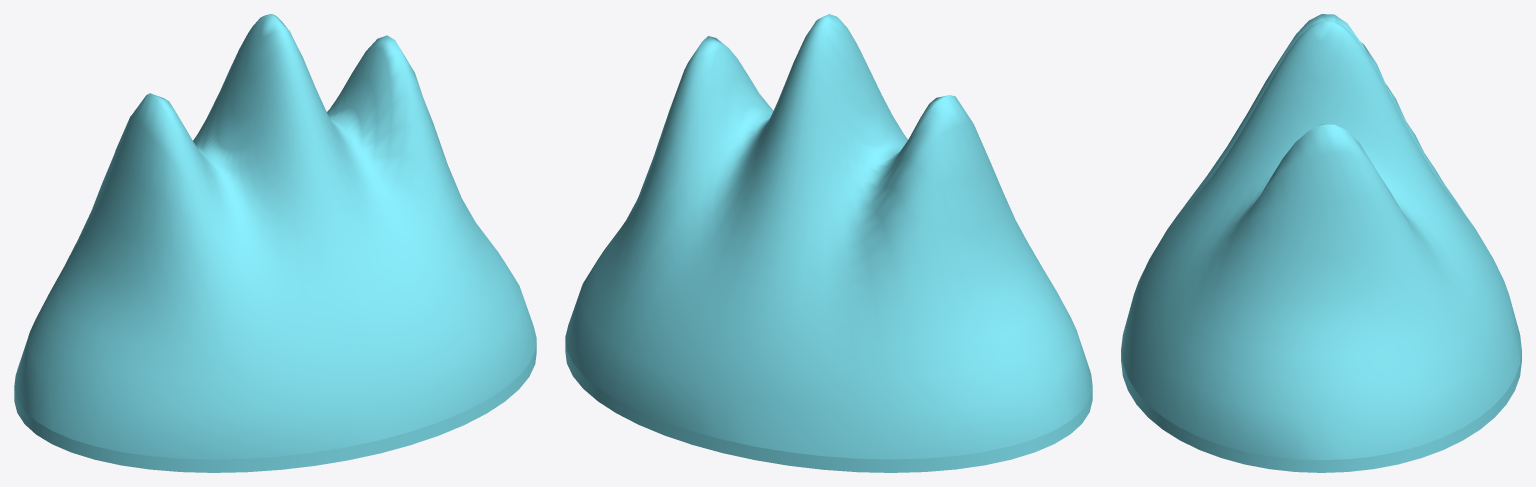
File: prism_slime.obj
3 views of the same model, side by side, from view 1: azimuth 30°, elevation 25°; view 2: azimuth 150°, elevation 25°; view 3: azimuth 270°, elevation 25° (orthographic). The views are drawn at different scales.
Parts seen in each view (by area): view 1: PrismSlimeBody; view 2: PrismSlimeBody; view 3: PrismSlimeBody.
Boxes of the visible parts, x1,y1,x2,y2 form: PrismSlimeBody: (14, 14, 536, 472); PrismSlimeBody: (565, 14, 1092, 472); PrismSlimeBody: (1121, 14, 1521, 472).
Bounding box in the file's own units: 1.68 × 1.2 × 1.28.
